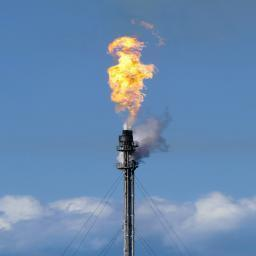fire: (108, 37, 158, 129)
smoke: (128, 107, 170, 163), (116, 151, 124, 162)
